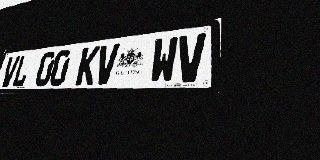0: (48, 49, 72, 86), (34, 51, 57, 86)
K: (75, 46, 100, 85)
L: (11, 54, 33, 87)
V: (175, 33, 206, 82), (93, 43, 120, 85), (0, 55, 21, 87)
W: (149, 36, 179, 83)
